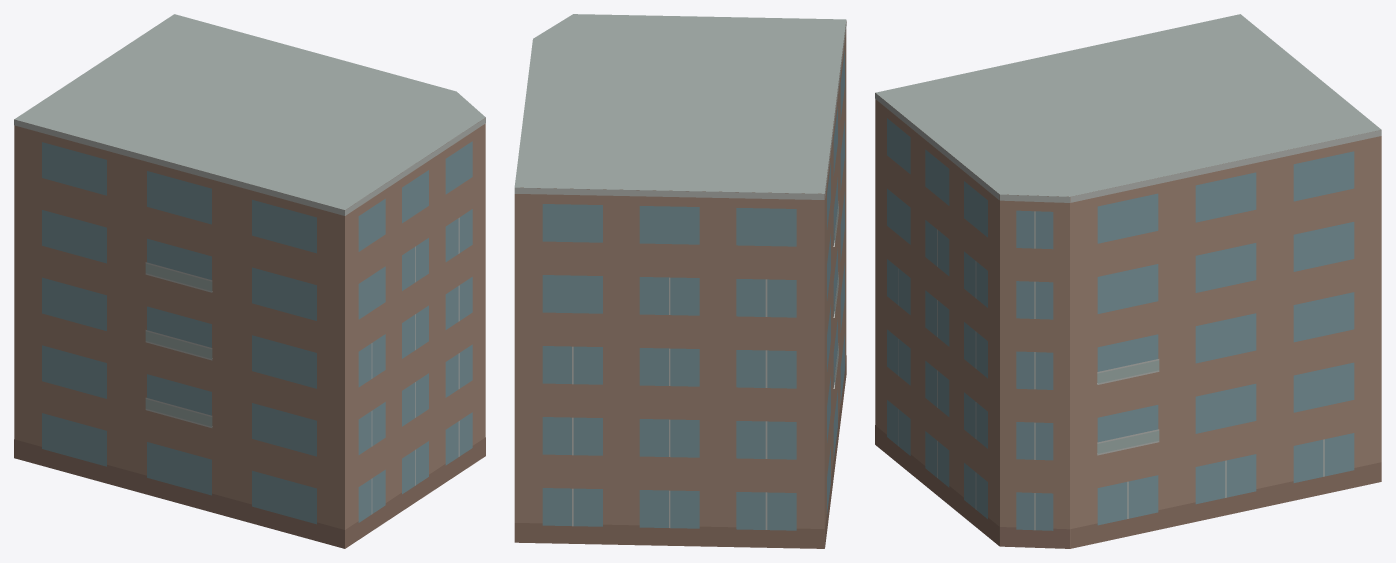
File: survey-upis-32841027.glb
The picture shows the model from 3 angles, left to right: view 1: azimuth 30°, elevation 25°; view 2: azimuth 150°, elevation 25°; view 3: azimuth 270°, elevation 25°; orthographic projection. The views are drawn at different scales.
Parts seen in each view (by area): view 1: survey-upis-32841027.tmp; view 2: survey-upis-32841027.tmp; view 3: survey-upis-32841027.tmp.
Boxes of the visible parts, <box> form: survey-upis-32841027.tmp: <box>14,14,485,548</box>; survey-upis-32841027.tmp: <box>514,14,846,548</box>; survey-upis-32841027.tmp: <box>875,14,1381,548</box>.
Bounding box in the file's own units: 15.49 × 13.9 × 18.13.
